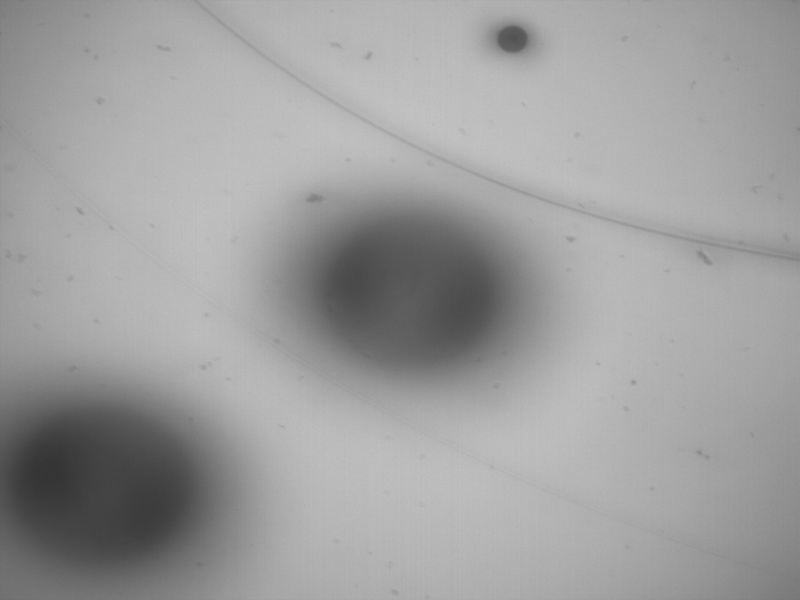bead: (10, 402, 193, 564), (326, 217, 495, 376), (497, 24, 528, 54)
